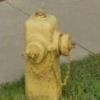Hydrant: (14, 8, 79, 97)
